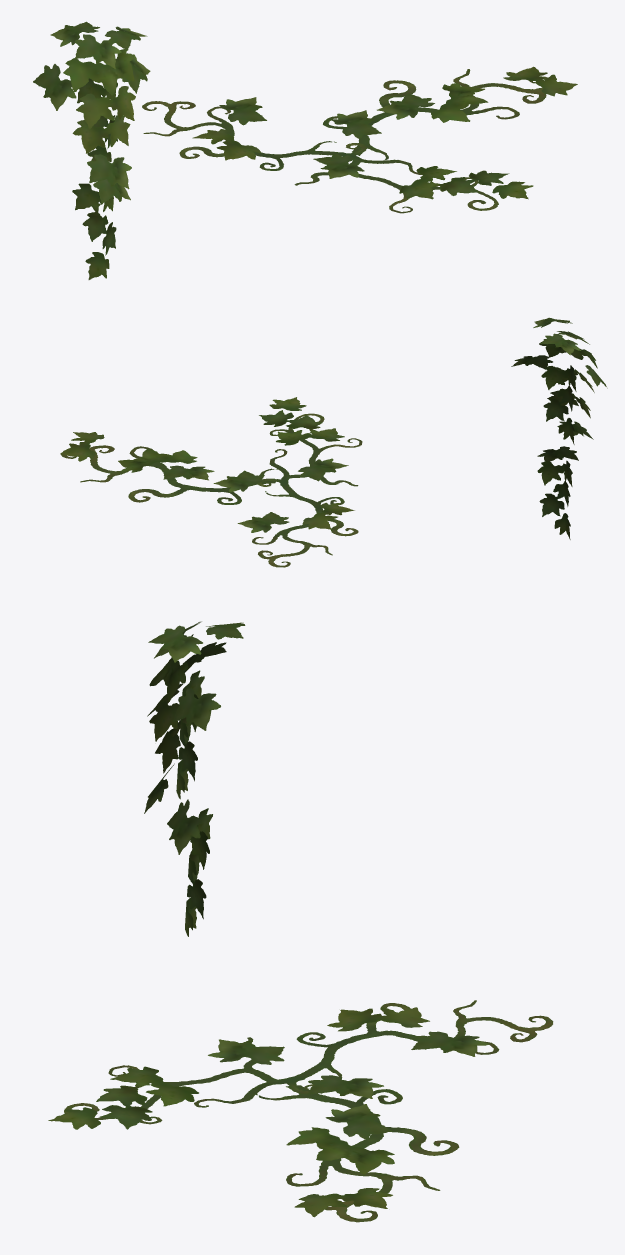
The model's file is FB_1_tengtiao01.FBX.
The picture shows the model from 3 angles, top to bottom: view 1: azimuth 30°, elevation 25°; view 2: azimuth 150°, elevation 25°; view 3: azimuth 270°, elevation 25°; orthographic projection. The views are drawn at different scales.
Parts seen in each view (by area): view 1: FB_1_tengtiao01_001, FB_1_tengtiao01_002; view 2: FB_1_tengtiao01_001, FB_1_tengtiao01_002; view 3: FB_1_tengtiao01_001, FB_1_tengtiao01_002.
Boxes of the visible parts, box(x1,y1,x2,y2) form: FB_1_tengtiao01_001: box(142, 66, 577, 213); FB_1_tengtiao01_002: box(33, 21, 150, 279); FB_1_tengtiao01_001: box(60, 397, 362, 567); FB_1_tengtiao01_002: box(511, 317, 607, 539); FB_1_tengtiao01_001: box(48, 1000, 553, 1222); FB_1_tengtiao01_002: box(144, 621, 245, 936).
Bounding box in the file's own units: 549 × 220 × 368.
1 material, 1 textured.
